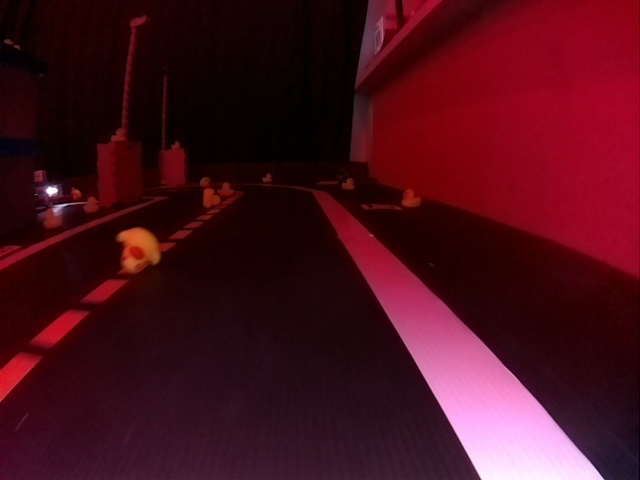Duckie: (116, 227, 159, 271), (44, 209, 63, 228), (403, 189, 421, 207), (203, 189, 221, 207), (83, 197, 99, 213), (217, 182, 234, 196), (111, 128, 125, 141), (342, 178, 355, 189), (71, 188, 81, 200), (172, 141, 181, 151), (262, 173, 268, 182)
Duckiebot: (35, 182, 64, 205)
QR code: (363, 203, 399, 212)
